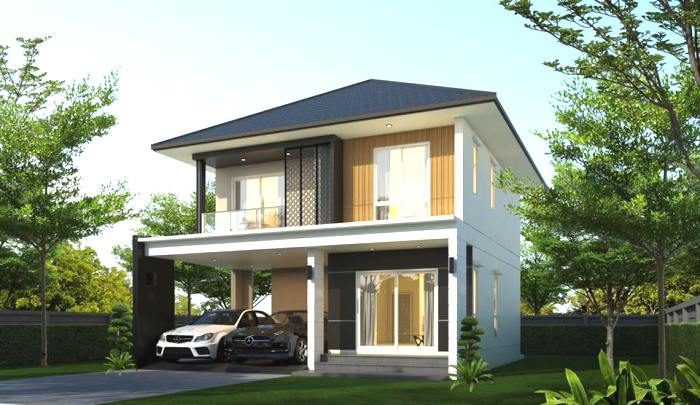Building House: (138, 77, 552, 378)
